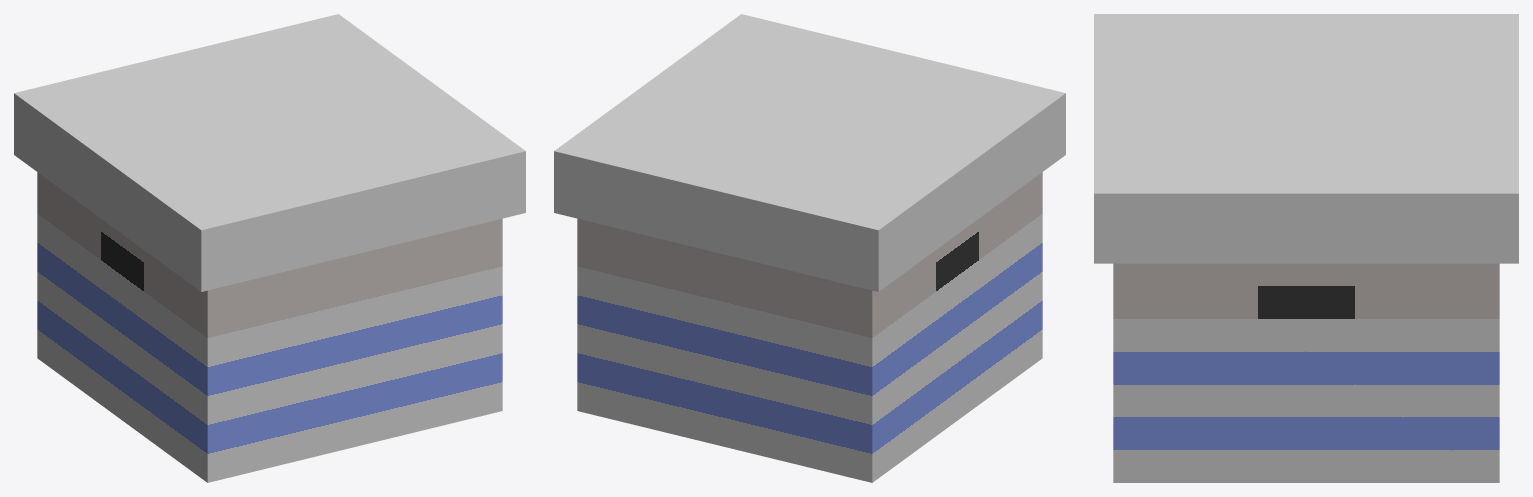
File: Office Box.fbx
3 renders of one model, left to right at view 1: azimuth 30°, elevation 25°; view 2: azimuth 150°, elevation 25°; view 3: azimuth 270°, elevation 25°, orthographic. The views are drawn at different scales.
Visible parts, largest first — view 1: cube; view 2: cube; view 3: cube.
Part boxes in pixels (x1,y1,x2,y2): cube: [14, 14, 525, 482]; cube: [554, 14, 1065, 482]; cube: [1094, 14, 1518, 482].
Size of the model in its own units: 13.75 by 10.62 by 13.75.
Materials: 1 (1 with a texture image).
